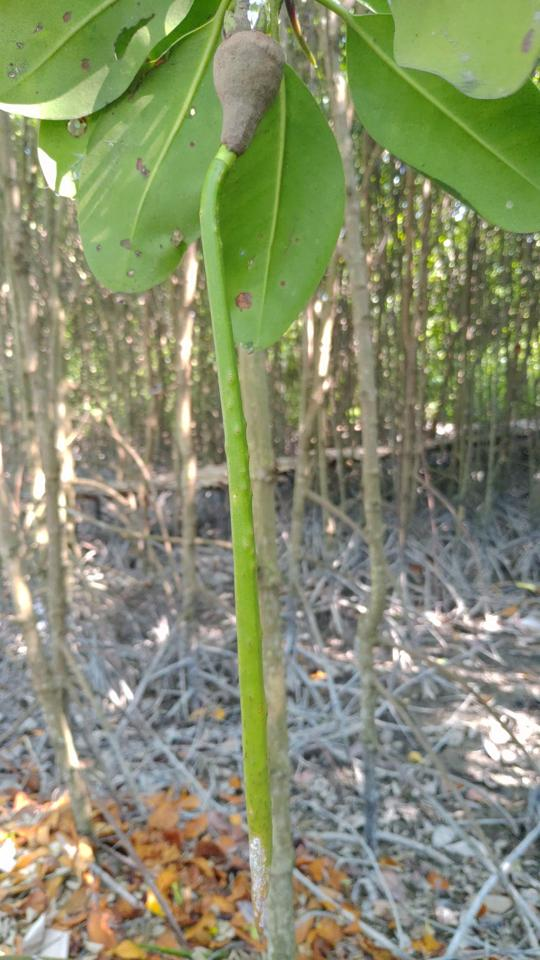setengah matang: (191, 11, 302, 923)
